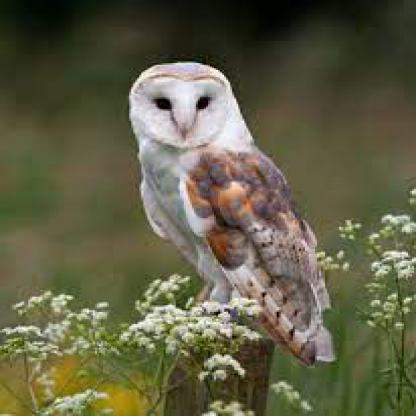owl: (123, 17, 414, 414)
